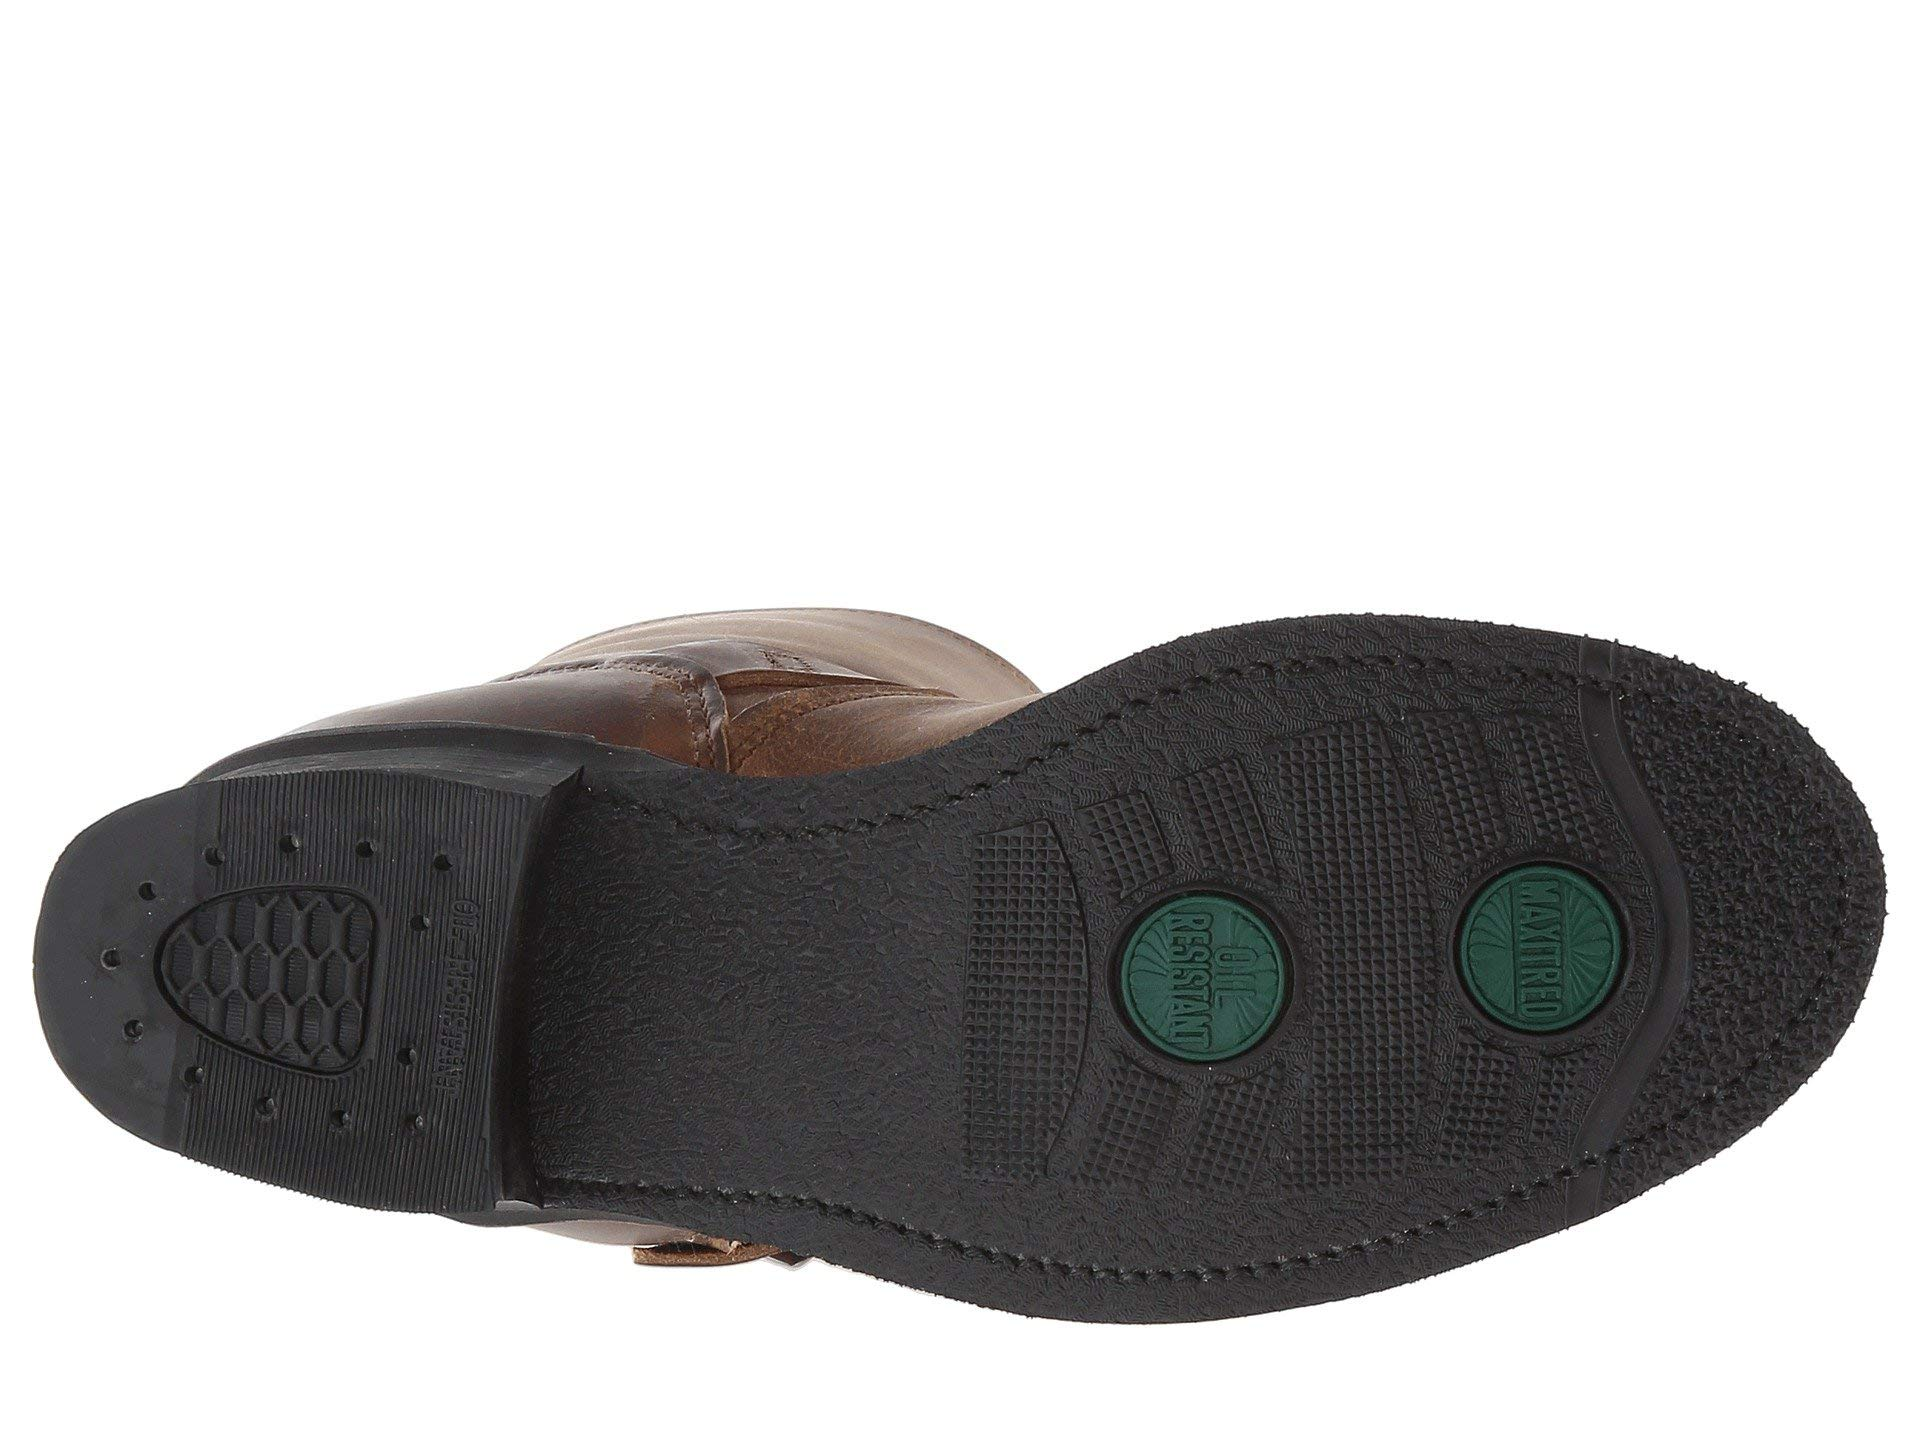circle: (1036, 818, 1397, 1199), (129, 811, 478, 1159), (1430, 794, 1668, 1074)
line: (129, 811, 478, 1159)
polygon: (129, 811, 478, 1159)
quad: (1036, 818, 1397, 1199)
star: (1036, 818, 1397, 1199), (1430, 794, 1668, 1074)
text: (1036, 818, 1397, 1199), (1430, 794, 1668, 1074)
triangle: (129, 811, 478, 1159)
